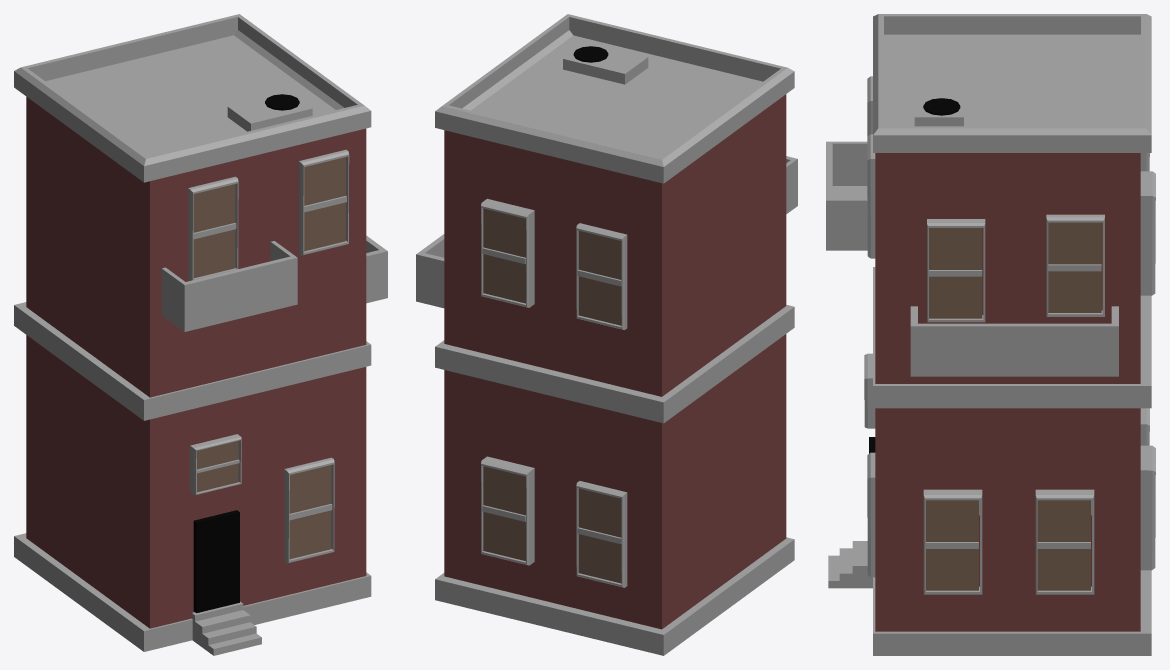
The model's file is SmallApartment.fbx.
The picture shows the model from 3 angles, left to right: view 1: azimuth 30°, elevation 25°; view 2: azimuth 150°, elevation 25°; view 3: azimuth 270°, elevation 25°; orthographic projection. The views are drawn at different scales.
Parts seen in each view (by area): view 1: pCube215, pCube34, pCube33, pCube39, pCube91, polySurface377, polySurface376, polySurface14, pCube267, pCube37, polySurface378, pCube36 (+1 smaller); view 2: pCube215, pCube34, pCube39, pCube33, polySurface382, polySurface384, polySurface381, polySurface383, pCube36, pCube266, pCube91; view 3: pCube215, pCube34, pCube266, pCube33, pCube39, polySurface379, polySurface380, polySurface386, polySurface385, pCube91, polySurface382, polySurface384 (+6 smaller).
Boxes of the visible parts, x1,y1,x2,y2 form: pCube215: (26,97,366,628); pCube34: (14,14,371,182); pCube33: (14,302,371,420); pCube39: (14,533,371,651); pCube91: (161,241,297,331); polySurface377: (284,457,334,563); polySurface376: (299,149,349,255); polySurface14: (188,176,238,281); pCube267: (193,510,239,613); pCube37: (191,601,261,655); polySurface378: (190,434,241,494); pCube36: (227,91,312,131); pCube215: (444,94,786,629); pCube34: (435,14,794,183); pCube39: (435,537,794,655); pCube33: (435,305,794,423); polySurface382: (481,456,534,565); polySurface384: (481,198,534,307); polySurface381: (576,481,627,587); polySurface383: (576,223,627,329); pCube36: (563,42,648,84); pCube266: (416,234,444,308); pCube91: (786,156,797,213); pCube215: (875,153,1140,631); pCube34: (873,14,1151,152); pCube266: (910,306,1118,376); pCube33: (873,267,1151,408); pCube39: (873,570,1151,655); polySurface379: (923,489,982,594); polySurface380: (1035,489,1094,594); polySurface386: (927,219,985,322); polySurface385: (1046,214,1104,316); pCube91: (826,141,867,250); polySurface382: (1140,445,1155,570); polySurface384: (1140,171,1155,295).
Bounding box in the file's own units: 37.96 × 68.09 × 38.69.
